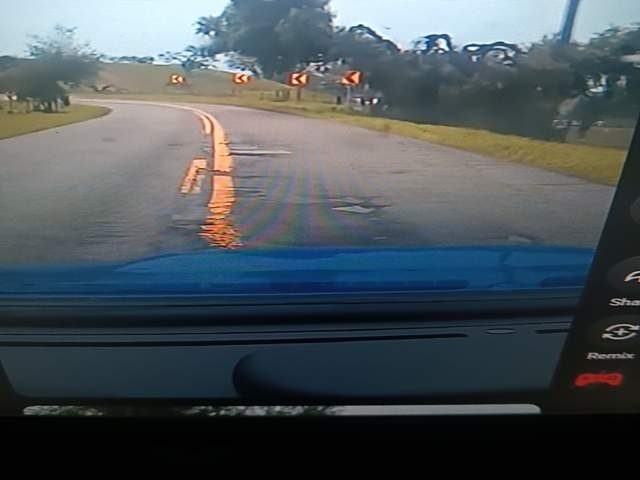pothole: (104, 405, 312, 480)
